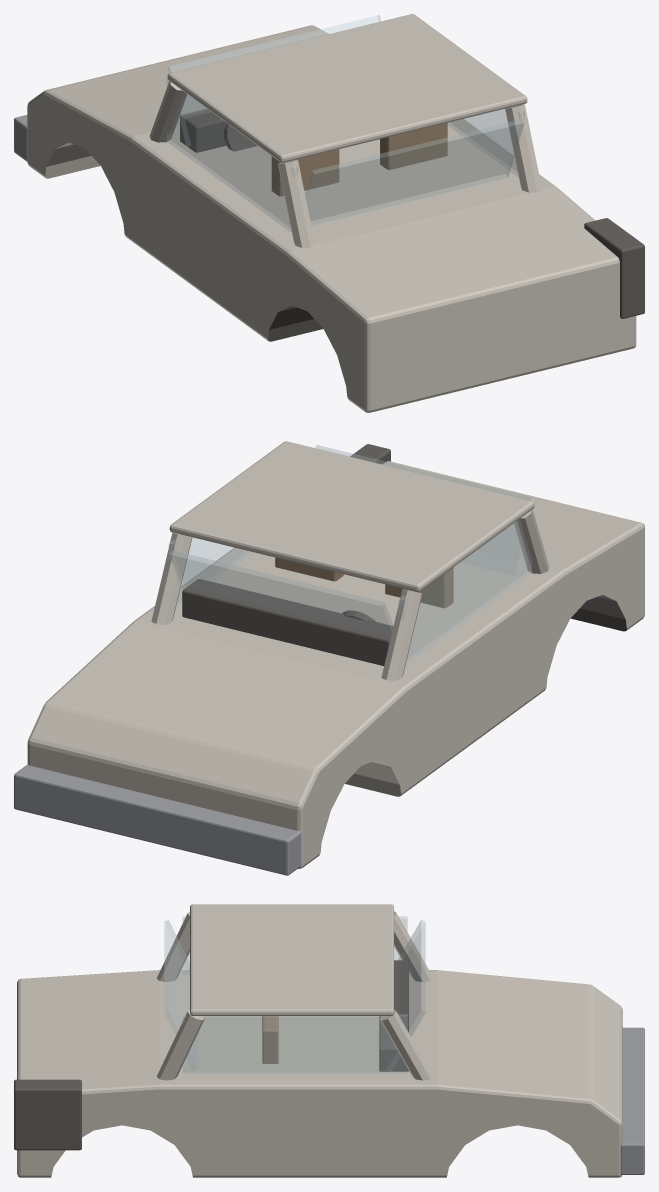
Rendered from humvee.glb.
The picture shows the model from 3 angles, top to bottom: view 1: azimuth 30°, elevation 25°; view 2: azimuth 150°, elevation 25°; view 3: azimuth 270°, elevation 25°; orthographic projection. The views are drawn at different scales.
Visible parts, largest first — view 1: body, roof, rear_glass, side_glass_-1, spare, seat_back_1, side_glass_1, ws_glass, c_pillar_-1, c_pillar_1, seat_back_0, dash (+2 smaller); view 2: body, roof, bumper_f, dash, ws_glass, side_glass_-1, rear_glass, side_glass_1, a_pillar_-1, a_pillar_1, c_pillar_-1, seat_back_0 (+1 smaller); view 3: body, roof, side_glass_1, spare, bumper_f, rear_glass, ws_glass, dash, a_pillar_1, c_pillar_1, a_pillar_-1, c_pillar_-1 (+1 smaller).
Part boxes in pixels (box(x1,y1,x2,y2)): body: box(27, 25, 636, 412); roof: box(167, 14, 527, 162); rear_glass: box(305, 119, 523, 225); side_glass_-1: box(167, 76, 297, 232); spare: box(584, 218, 644, 318); seat_back_1: box(380, 122, 447, 169); side_glass_1: box(448, 109, 524, 177); ws_glass: box(167, 15, 380, 146); c_pillar_-1: box(278, 159, 314, 247); c_pillar_1: box(505, 104, 541, 192); seat_back_0: box(271, 149, 339, 196); dash: box(180, 109, 226, 152); body: box(27, 461, 644, 868); roof: box(169, 441, 534, 591); bumper_f: box(14, 765, 301, 875); dash: box(182, 579, 393, 665); ws_glass: box(169, 550, 393, 637); side_glass_-1: box(399, 519, 531, 664); rear_glass: box(315, 445, 531, 575); side_glass_1: box(169, 537, 253, 608); a_pillar_-1: box(381, 589, 422, 680); a_pillar_1: box(151, 532, 192, 624); c_pillar_-1: box(514, 509, 549, 573); seat_back_0: box(385, 567, 453, 608); body: box(17, 970, 622, 1177); roof: box(190, 904, 393, 1015); side_glass_1: box(183, 1014, 407, 1074); spare: box(14, 1079, 81, 1150); bumper_f: box(620, 1027, 644, 1174); rear_glass: box(164, 920, 196, 1070); ws_glass: box(387, 920, 425, 1070); dash: box(379, 960, 408, 1071); a_pillar_1: box(379, 1009, 432, 1080); c_pillar_1: box(157, 1010, 204, 1080); a_pillar_-1: box(394, 911, 433, 982); c_pillar_-1: box(157, 912, 189, 981).
Size of the model in its own units: 2.3 by 1.46 by 5.11.
